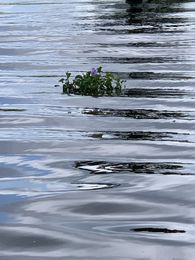water_hyacinth: (59, 67, 125, 96)
